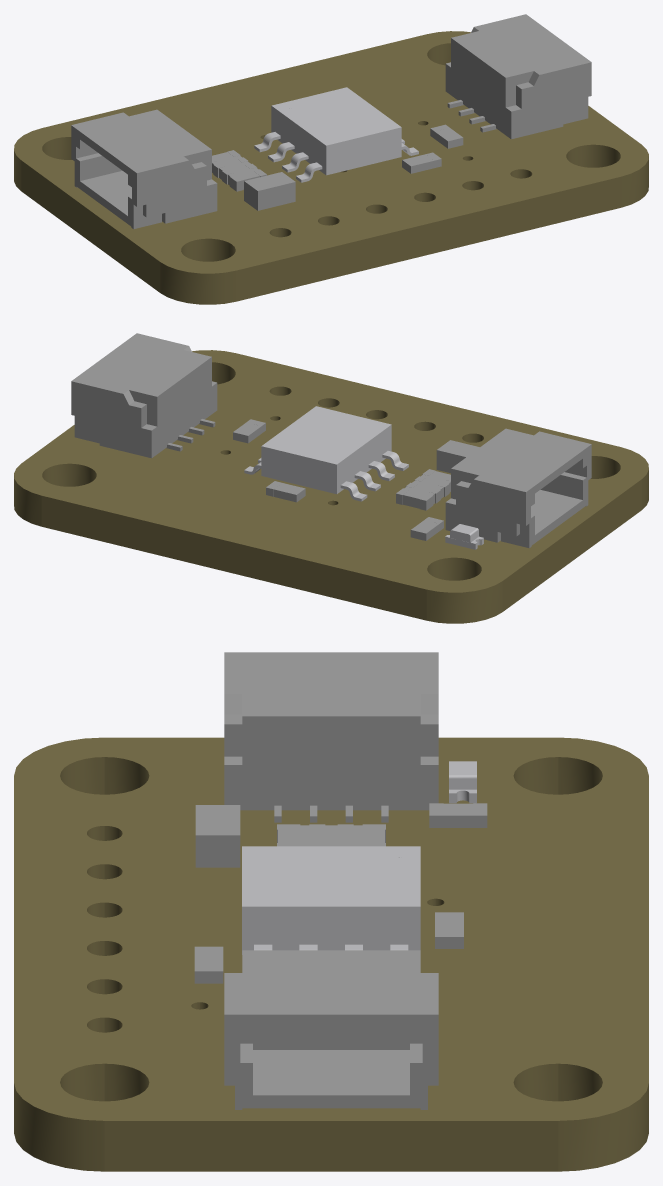
Rendered from ada-4089.glb.
3 renders of one model, top to bottom at view 1: azimuth 30°, elevation 25°; view 2: azimuth 150°, elevation 25°; view 3: azimuth 270°, elevation 25°, orthographic. The views are drawn at different scales.
Parts seen in each view (by area): view 1: 0.16666666666666666_0.16666666666666666_0.08333333333333333_, 0.3333333333333333_0.3333333333333333_0.3333333333333333_0, 0.5833333333333334_0.5833333333333334_0.5833333333333334_0.8; view 2: 0.16666666666666666_0.16666666666666666_0.08333333333333333_, 0.3333333333333333_0.3333333333333333_0.3333333333333333_0, 0.5833333333333334_0.5833333333333334_0.5833333333333334_0.8; view 3: 0.16666666666666666_0.16666666666666666_0.08333333333333333_, 0.3333333333333333_0.3333333333333333_0.3333333333333333_0, 0.5833333333333334_0.5833333333333334_0.5833333333333334_0.8.
Boxes of the visible parts, x1,y1,x2,y2 form: 0.16666666666666666_0.16666666666666666_0.08333333333333333_: (14, 31, 648, 304); 0.3333333333333333_0.3333333333333333_0.3333333333333333_0: (71, 14, 591, 229); 0.5833333333333334_0.5833333333333334_0.5833333333333334_0.8: (254, 87, 418, 182); 0.16666666666666666_0.16666666666666666_0.08333333333333333_: (14, 350, 648, 623); 0.3333333333333333_0.3333333333333333_0.3333333333333333_0: (71, 333, 591, 548); 0.5833333333333334_0.5833333333333334_0.5833333333333334_0.8: (244, 406, 483, 549); 0.16666666666666666_0.16666666666666666_0.08333333333333333_: (14, 737, 648, 1171); 0.3333333333333333_0.3333333333333333_0.3333333333333333_0: (194, 652, 487, 1109); 0.5833333333333334_0.5833333333333334_0.5833333333333334_0.8: (242, 761, 476, 954).
Size of the model in its own units: 2.54 by 0.4529 by 1.78.
